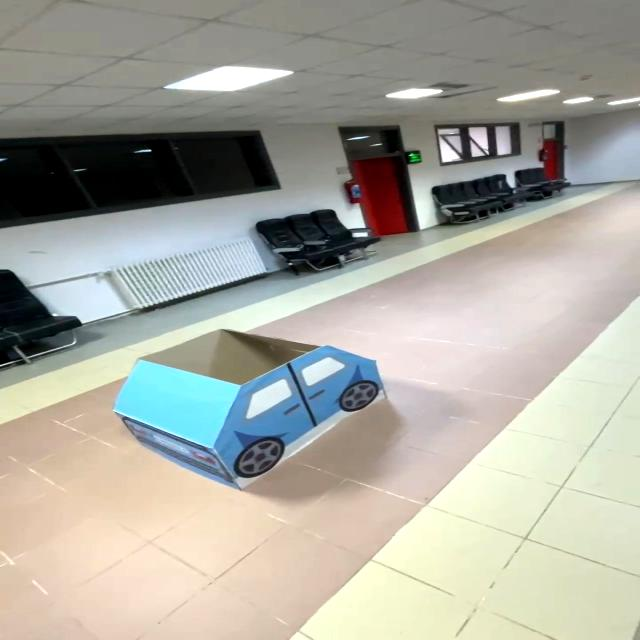blue_car: (87, 311, 423, 504)
